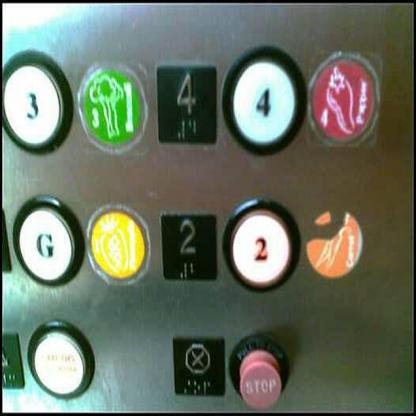2: (220, 194, 301, 294), (158, 208, 218, 283)
3: (1, 45, 75, 158)
4: (219, 40, 307, 158), (154, 60, 219, 146)
G: (10, 190, 84, 290)
stop: (169, 333, 227, 399)
text_STOP: (226, 328, 293, 411)
text_blur: (23, 315, 96, 401)
unknown: (304, 49, 381, 152), (76, 56, 154, 155), (84, 200, 152, 287), (303, 204, 364, 280)
